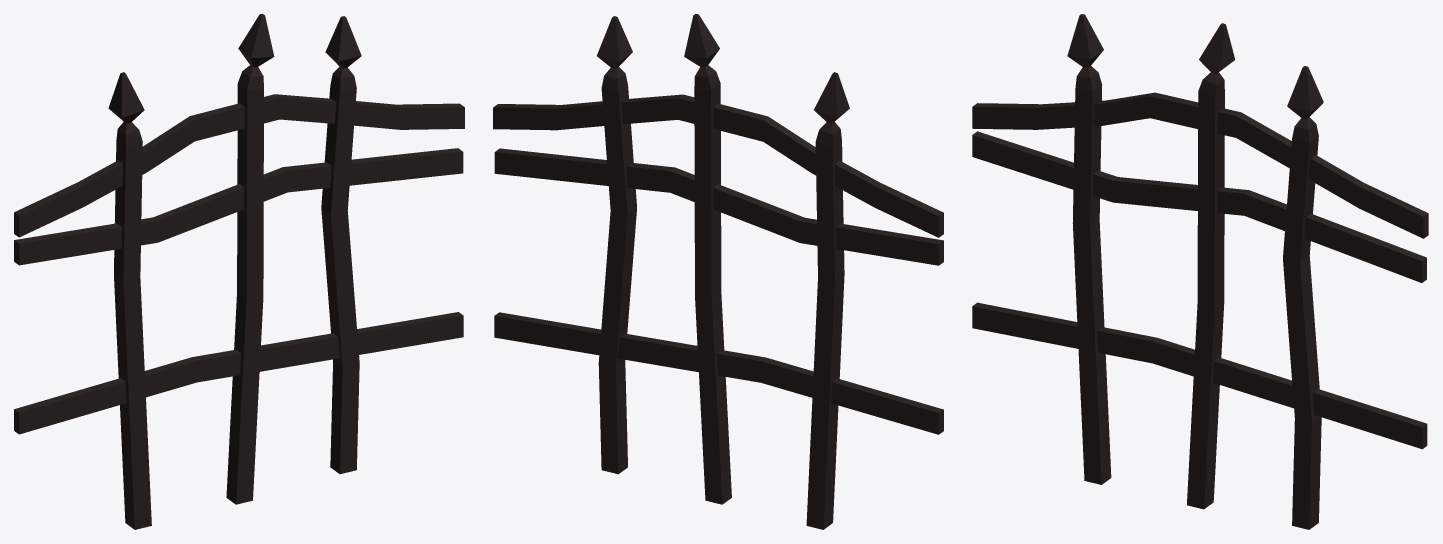
Rendered from fenceBSection2.glb.
3 views of the same model, side by side, from view 1: azimuth 30°, elevation 25°; view 2: azimuth 150°, elevation 25°; view 3: azimuth 330°, elevation 25° (orthographic).
Visible parts, largest first — view 1: fenceBSection2; view 2: fenceBSection2; view 3: fenceBSection2.
Boxes of the visible parts, x1,y1,x2,y2 form: fenceBSection2: (14, 14, 464, 529); fenceBSection2: (493, 14, 943, 529); fenceBSection2: (972, 14, 1428, 529).
Size of the model in its own units: 2 by 2.06 by 0.1021.
1 material, 1 textured.
